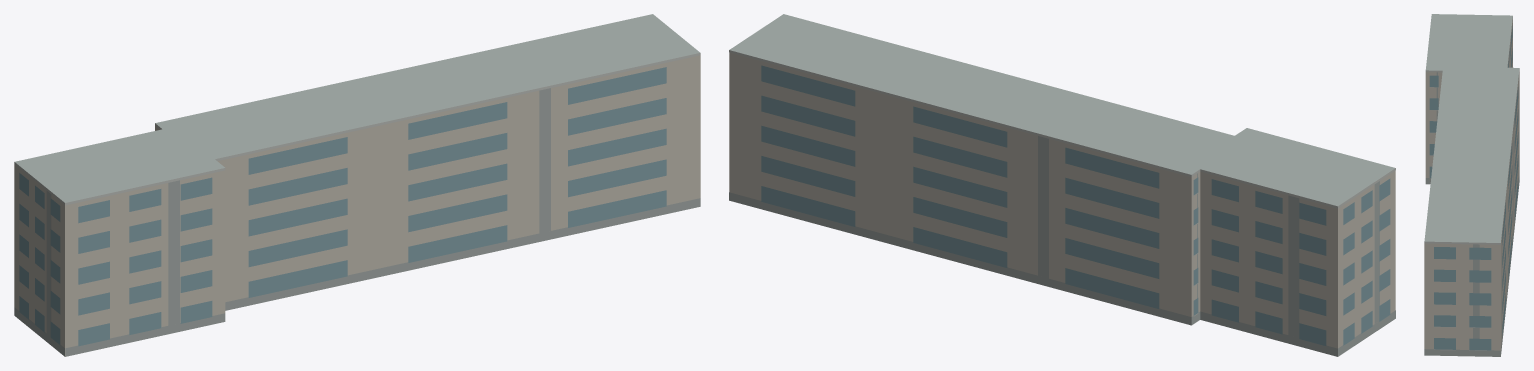
Rendered from residential-5b61f39c-03ba-4f59-b6b5-8b7b58da3569.glb.
3 renders of one model, left to right at view 1: azimuth 30°, elevation 25°; view 2: azimuth 150°, elevation 25°; view 3: azimuth 270°, elevation 25°, orthographic. The views are drawn at different scales.
Visible parts, largest first — view 1: residential-5b61f39c-03ba-4f59-b6b5-8b7b58da3569.tmp; view 2: residential-5b61f39c-03ba-4f59-b6b5-8b7b58da3569.tmp; view 3: residential-5b61f39c-03ba-4f59-b6b5-8b7b58da3569.tmp.
Part boxes in pixels (x1,y1,x2,y2): residential-5b61f39c-03ba-4f59-b6b5-8b7b58da3569.tmp: [14, 14, 700, 356]; residential-5b61f39c-03ba-4f59-b6b5-8b7b58da3569.tmp: [729, 14, 1395, 356]; residential-5b61f39c-03ba-4f59-b6b5-8b7b58da3569.tmp: [1424, 14, 1519, 356].
Size of the model in its own units: 65.81 by 15.25 by 11.56.
